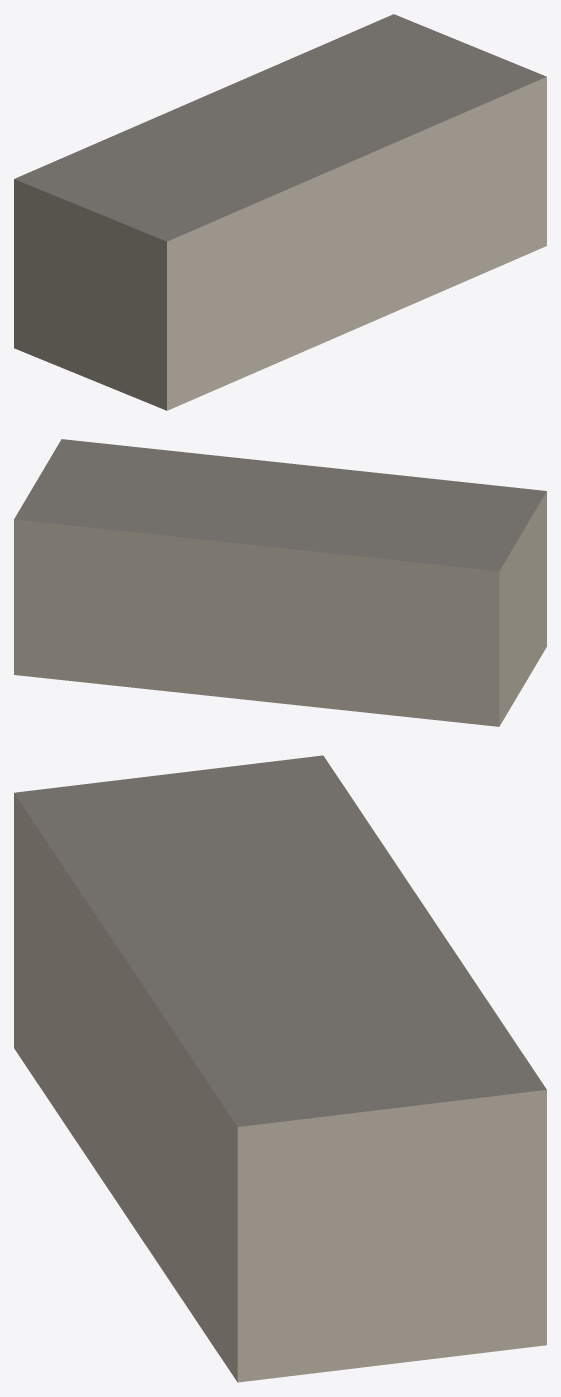
3 views of the same model, one above another, from view 1: azimuth 30°, elevation 25°; view 2: azimuth 150°, elevation 25°; view 3: azimuth 270°, elevation 25° (orthographic). The views are drawn at different scales.
Parts seen in each view (by area): view 1: HP-w475045204; view 2: HP-w475045204; view 3: HP-w475045204.
Boxes of the visible parts, x1=… form: HP-w475045204: x1=14, y1=14, x2=546, y2=410; HP-w475045204: x1=14, y1=439, x2=546, y2=726; HP-w475045204: x1=14, y1=755, x2=546, y2=1382.
Bounding box in the file's own units: 56.17 × 18 × 34.04.
